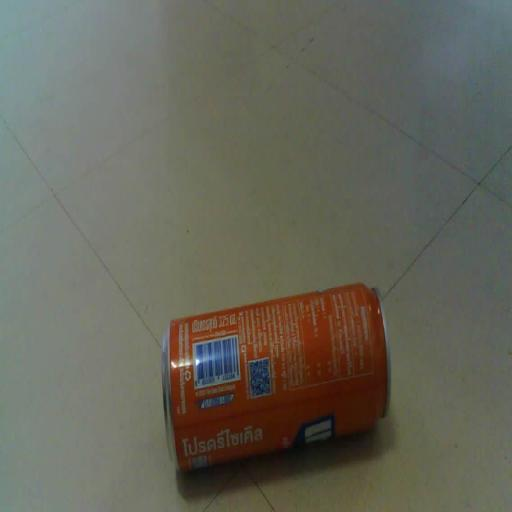canned: (148, 272, 403, 484)
